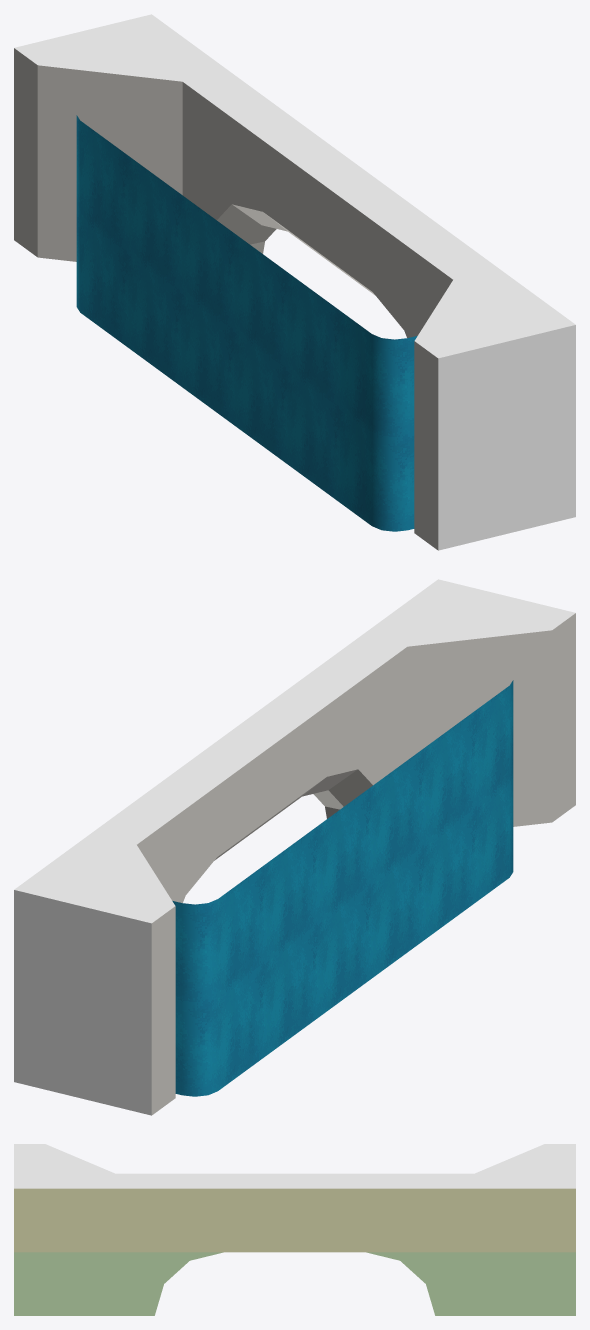
The model's file is Cliff_Cave_Entrance_Waterfall_Wide_Top.glb.
The picture shows the model from 3 angles, top to bottom: view 1: azimuth 30°, elevation 25°; view 2: azimuth 150°, elevation 25°; view 3: azimuth 270°, elevation 25°; orthographic projection. The views are drawn at different scales.
Visible parts, largest first — view 1: Cave_Edge_Esse_Top_3x4 (×2), Water_Waterfall_Mid_Right_1x1 (×2), Water_Waterfall_Mid_Center_1x1 (×4), Water_Waterfall_Mid_Left_1x1 (×2), Cave_Center_Top_1x1; view 2: Cave_Edge_Esse_Top_3x4 (×2), Water_Waterfall_Mid_Left_1x1 (×2), Water_Waterfall_Mid_Center_1x1 (×4), Water_Waterfall_Mid_Right_1x1 (×2), Cave_Center_Top_1x1; view 3: Cave_Edge_Esse_Top_3x4 (×2), Cave_Center_Top_1x1.
Boxes of the visible parts, bbox=[...] form: Cave_Edge_Esse_Top_3x4 (×2): bbox=[14, 14, 575, 550]; Water_Waterfall_Mid_Right_1x1 (×2): bbox=[279, 266, 417, 531]; Water_Waterfall_Mid_Center_1x1 (×4): bbox=[173, 188, 278, 457]; Water_Waterfall_Mid_Left_1x1 (×2): bbox=[76, 115, 172, 380]; Cave_Center_Top_1x1: bbox=[265, 131, 416, 295]; Cave_Edge_Esse_Top_3x4 (×2): bbox=[14, 579, 575, 1115]; Water_Waterfall_Mid_Left_1x1 (×2): bbox=[172, 831, 310, 1096]; Water_Waterfall_Mid_Center_1x1 (×4): bbox=[311, 753, 416, 1022]; Water_Waterfall_Mid_Right_1x1 (×2): bbox=[417, 680, 513, 945]; Cave_Center_Top_1x1: bbox=[173, 696, 324, 860]; Cave_Edge_Esse_Top_3x4 (×2): bbox=[14, 1144, 575, 1315]; Cave_Center_Top_1x1: bbox=[224, 1173, 365, 1252].
Size of the model in its own units: 150 by 225 by 800.
7 materials, 3 textured.
